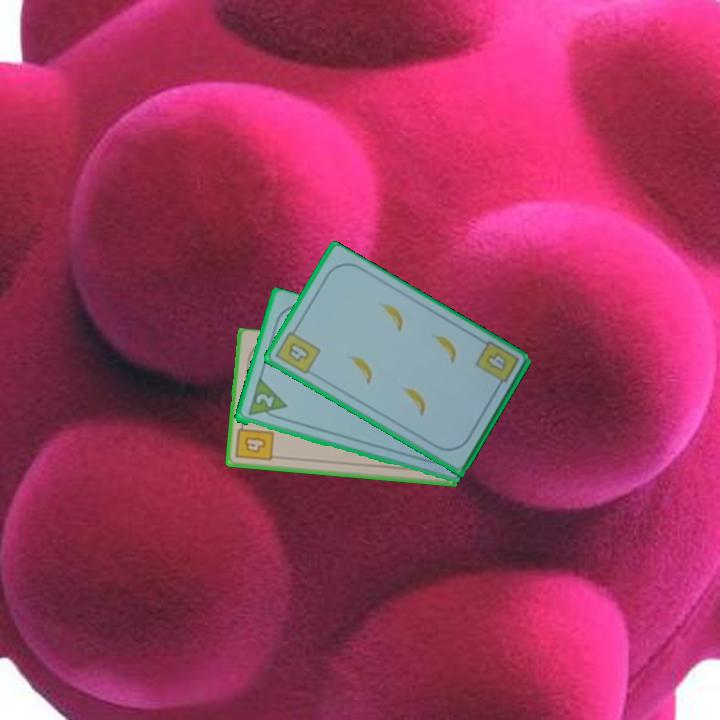2p: (244, 376, 289, 423)
4b: (272, 323, 323, 378), (472, 338, 522, 393), (232, 419, 277, 464)
